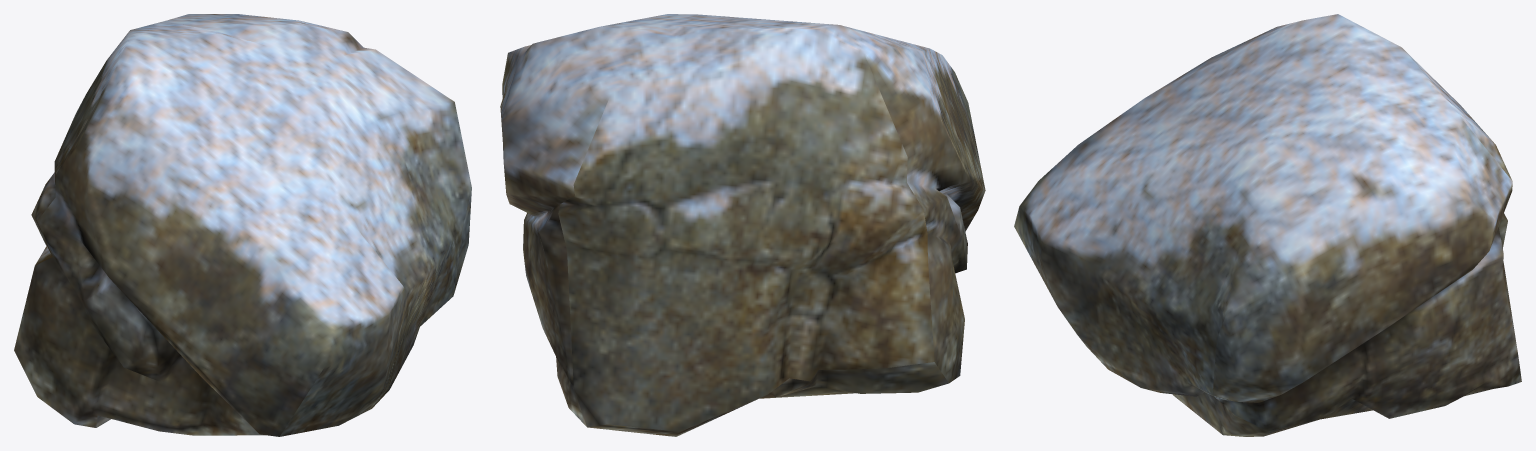
The model's file is SM_EN_2007_shitou04.FBX.
The picture shows the model from 3 angles, left to right: view 1: azimuth 30°, elevation 25°; view 2: azimuth 150°, elevation 25°; view 3: azimuth 270°, elevation 25°; orthographic projection. The views are drawn at different scales.
Visible parts, largest first — view 1: SM_EN_2007_shitou04; view 2: SM_EN_2007_shitou04; view 3: SM_EN_2007_shitou04.
Part boxes in pixels (x1=…): SM_EN_2007_shitou04: x1=14, y1=14, x2=471, y2=436; SM_EN_2007_shitou04: x1=500, y1=14, x2=985, y2=436; SM_EN_2007_shitou04: x1=1014, y1=14, x2=1521, y2=436.
Size of the model in its own units: 119 by 97.59 by 130.
